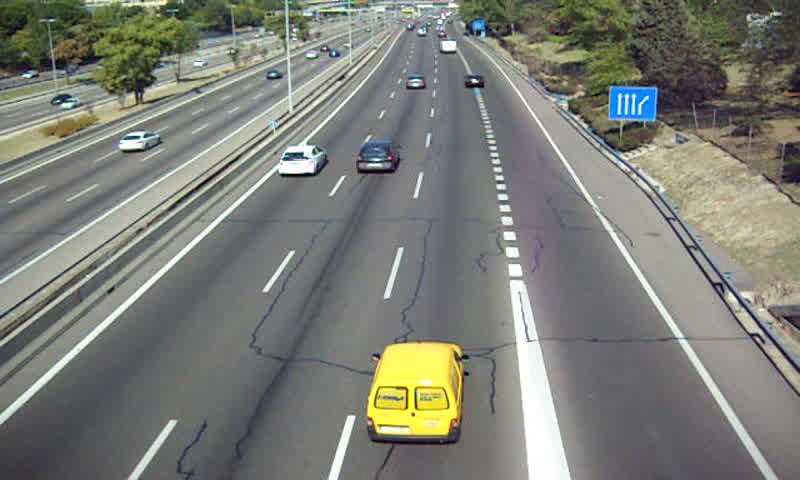car: (356, 142, 400, 173), (279, 145, 326, 174), (405, 75, 426, 90), (464, 74, 486, 88)
van: (366, 342, 463, 439)
